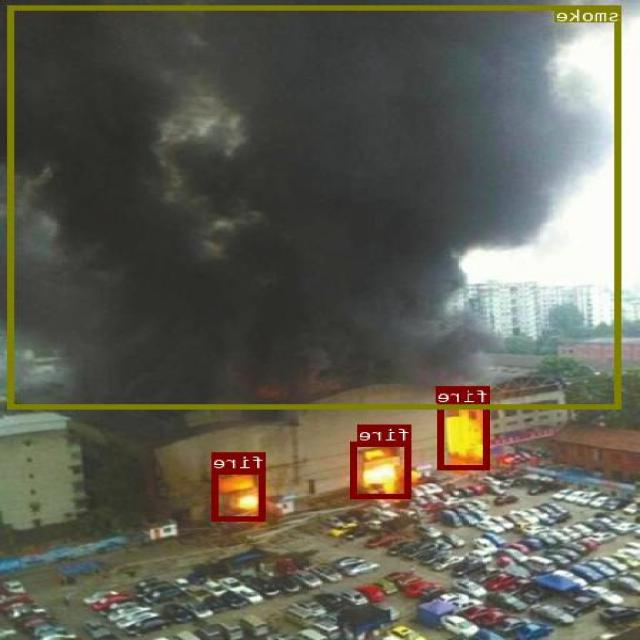fire: (352, 441, 412, 498), (440, 403, 491, 469), (213, 468, 267, 520)
smoke: (10, 5, 622, 408)
